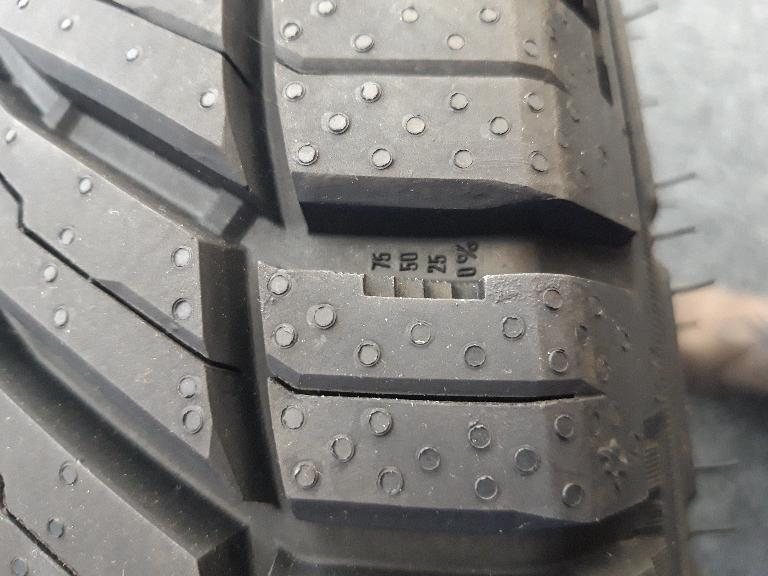temoin:100: (326, 264, 496, 311)
